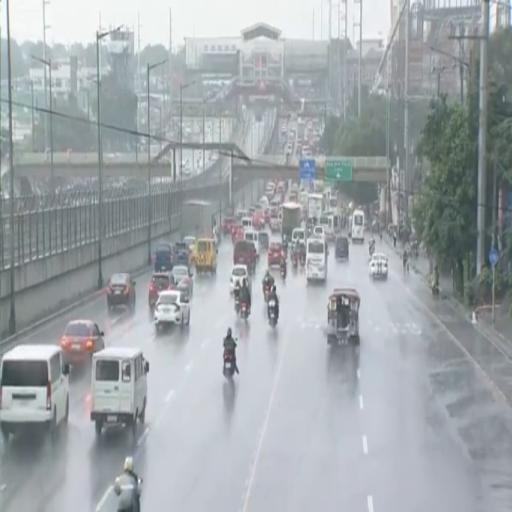car: (0, 345, 69, 440), (90, 347, 149, 435), (60, 319, 104, 365), (154, 291, 190, 331), (107, 272, 136, 309), (149, 272, 174, 308), (171, 265, 193, 297), (230, 265, 251, 293), (369, 252, 388, 279), (155, 243, 173, 271), (174, 243, 190, 266), (268, 243, 284, 266), (222, 217, 236, 234), (232, 226, 244, 244), (183, 236, 196, 252), (259, 231, 269, 250), (313, 226, 326, 238), (270, 218, 280, 233)
motorcycle: (126, 478, 142, 511), (224, 349, 235, 378), (268, 299, 277, 327), (240, 301, 250, 319), (264, 284, 271, 301), (280, 264, 287, 280), (432, 283, 439, 298), (235, 295, 240, 315), (291, 252, 297, 268), (299, 253, 305, 267), (369, 244, 374, 259)
truck: (282, 202, 301, 239), (308, 194, 323, 221)
